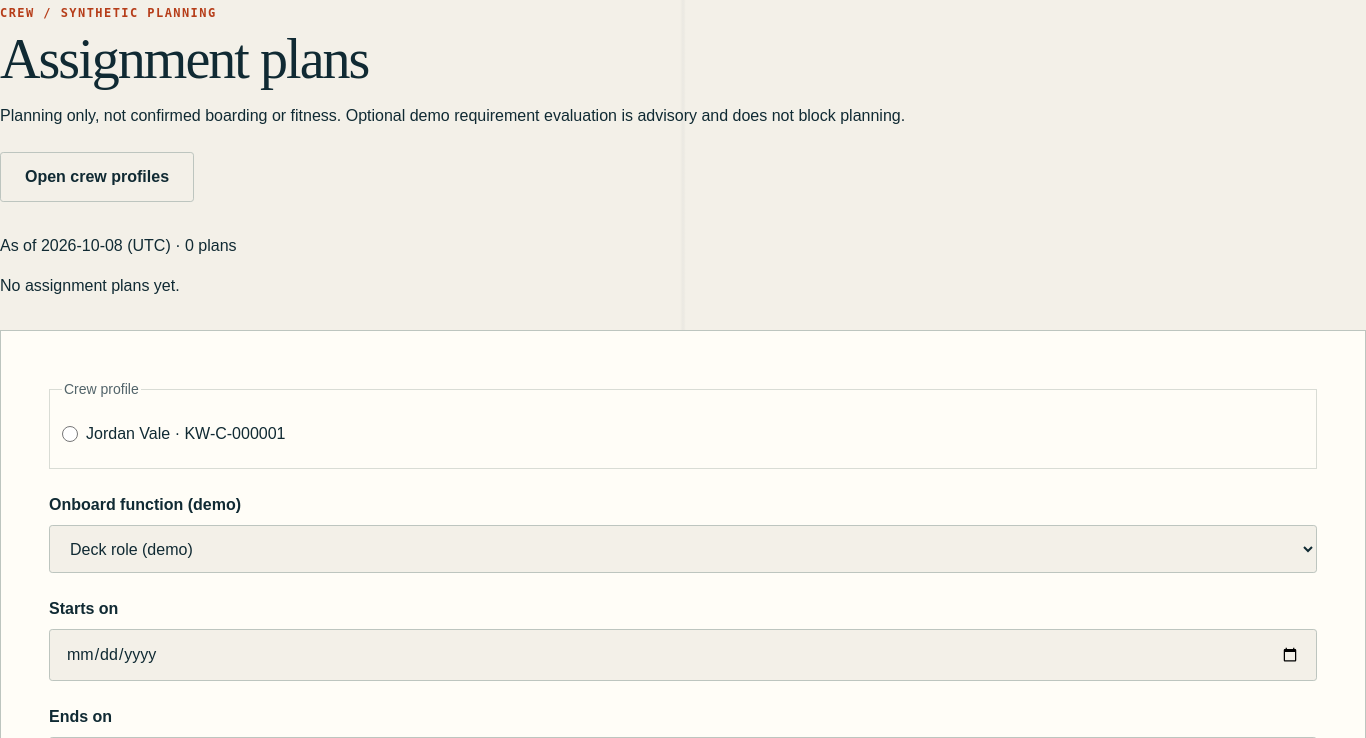
Test: Vessel assignment plans › preserves confirmed success if the subsequent history read fails and retries only that read
The width and height of the screenshot is (1366, 738).
(page scrolled)
Click the radio button labelled "Jordan Vale · KW-C-000001" at {"x": 70, "y": 434}, box 62,426 -> 78,442
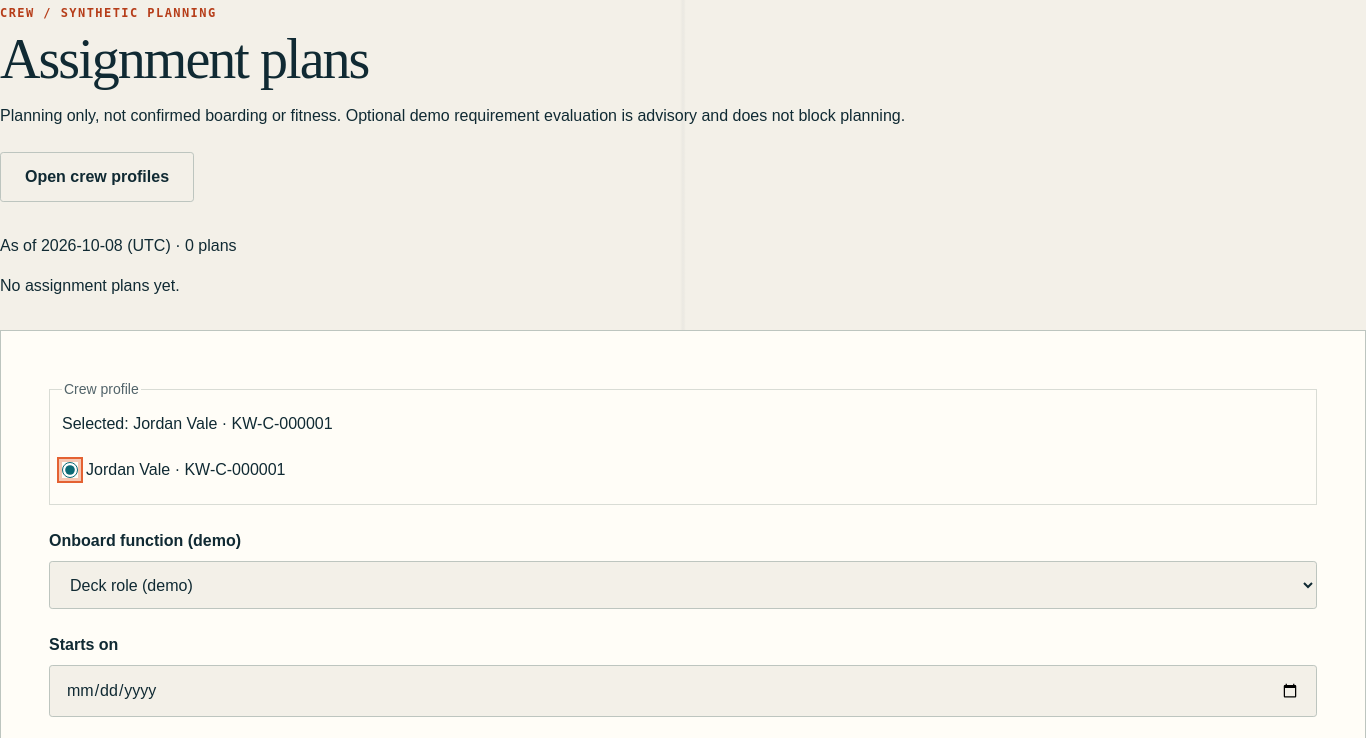
Type "2040-02-01" into the date field labelled "Starts on" at {"x": 683, "y": 692}, box 49,666 -> 1317,718
(page scrolled)
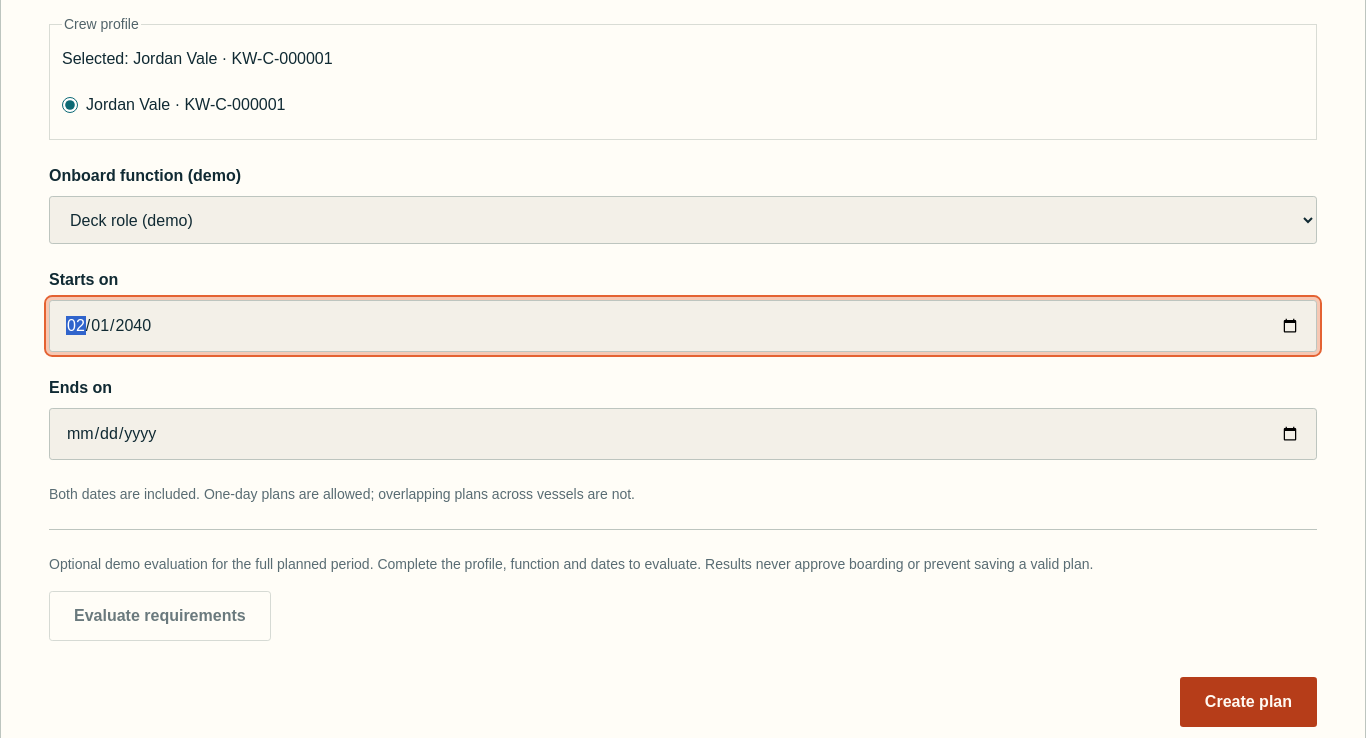
Type "2040-02-02" into the date field labelled "Ends on" at {"x": 683, "y": 434}, box 49,408 -> 1317,460
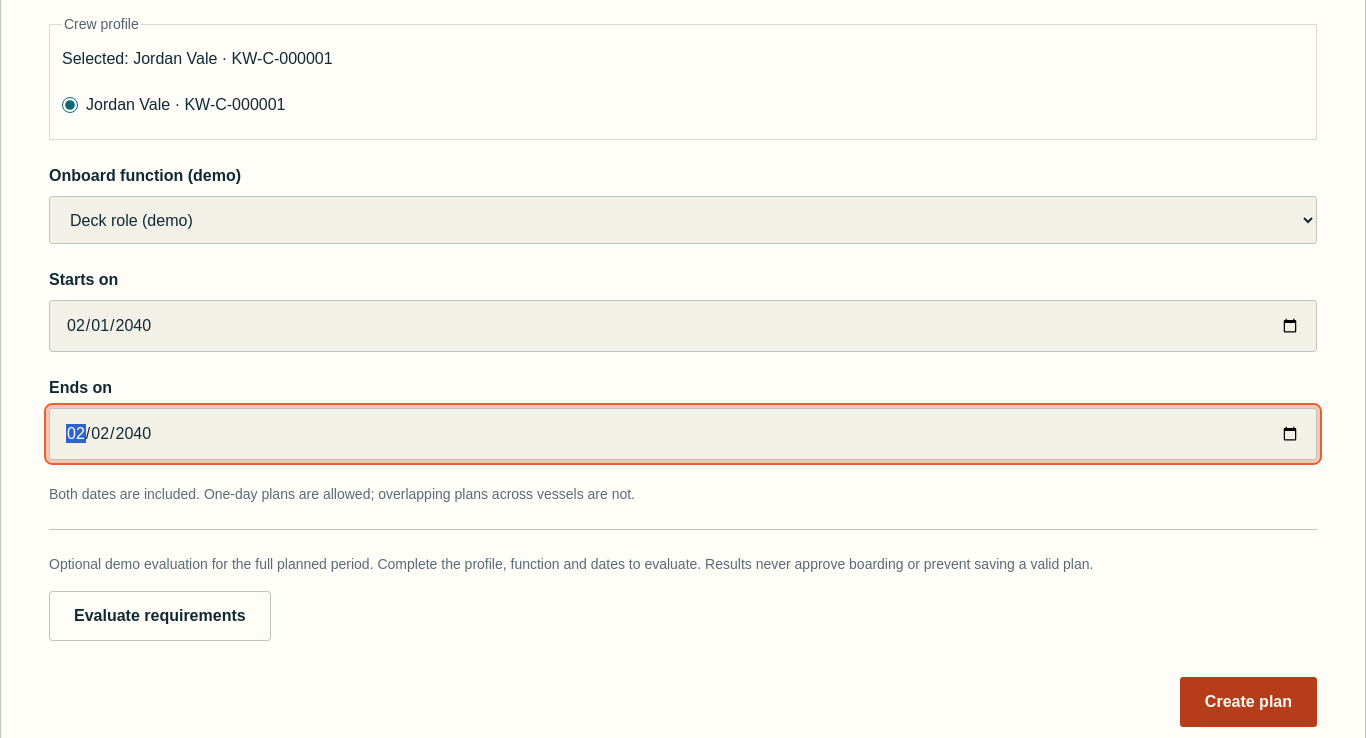
Click the button "Create plan" at {"x": 1248, "y": 702}, box 1180,678 -> 1317,728
(page scrolled)
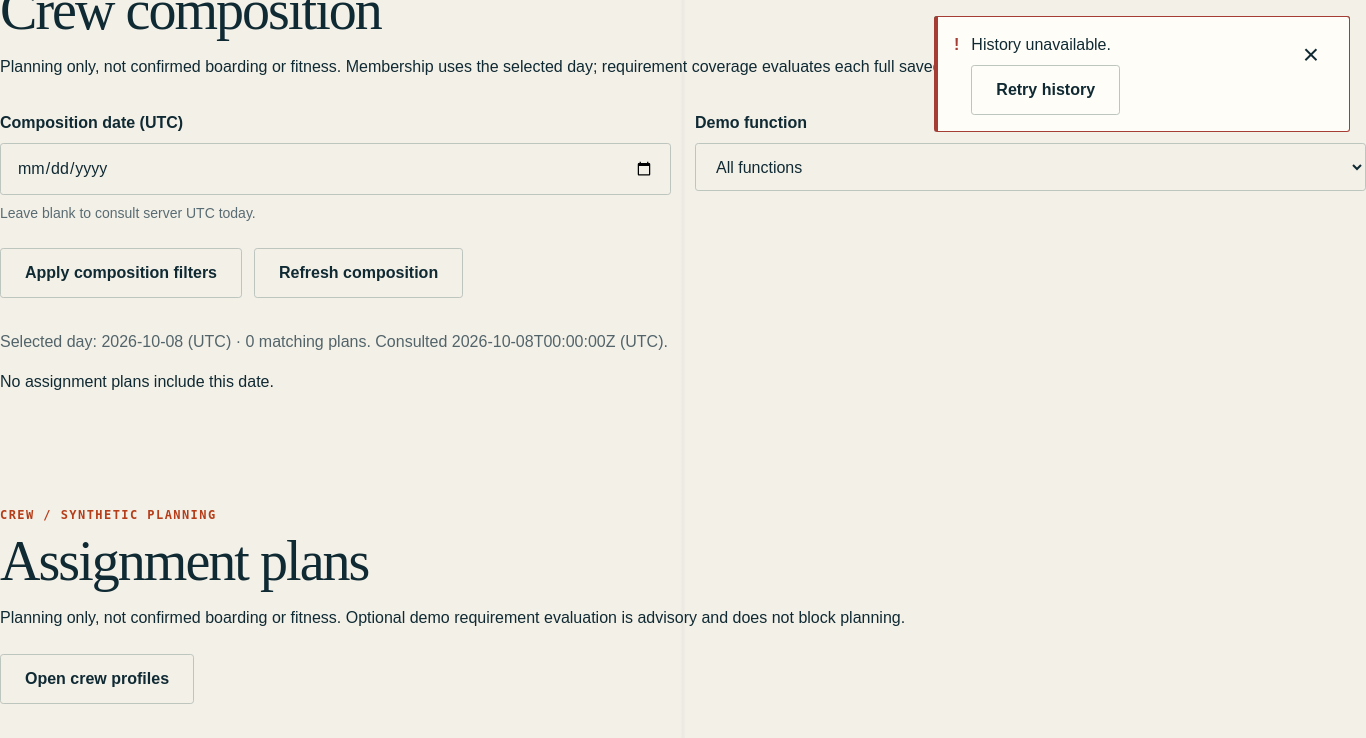
Result: the text "History unavailable." is shown at 971,36 -> 1111,53
Result: the text "Plan saved" is shown at 979,36 -> 1063,53
Click the button "Retry history" at {"x": 1046, "y": 90}, box 971,65 -> 1120,115
(page scrolled)
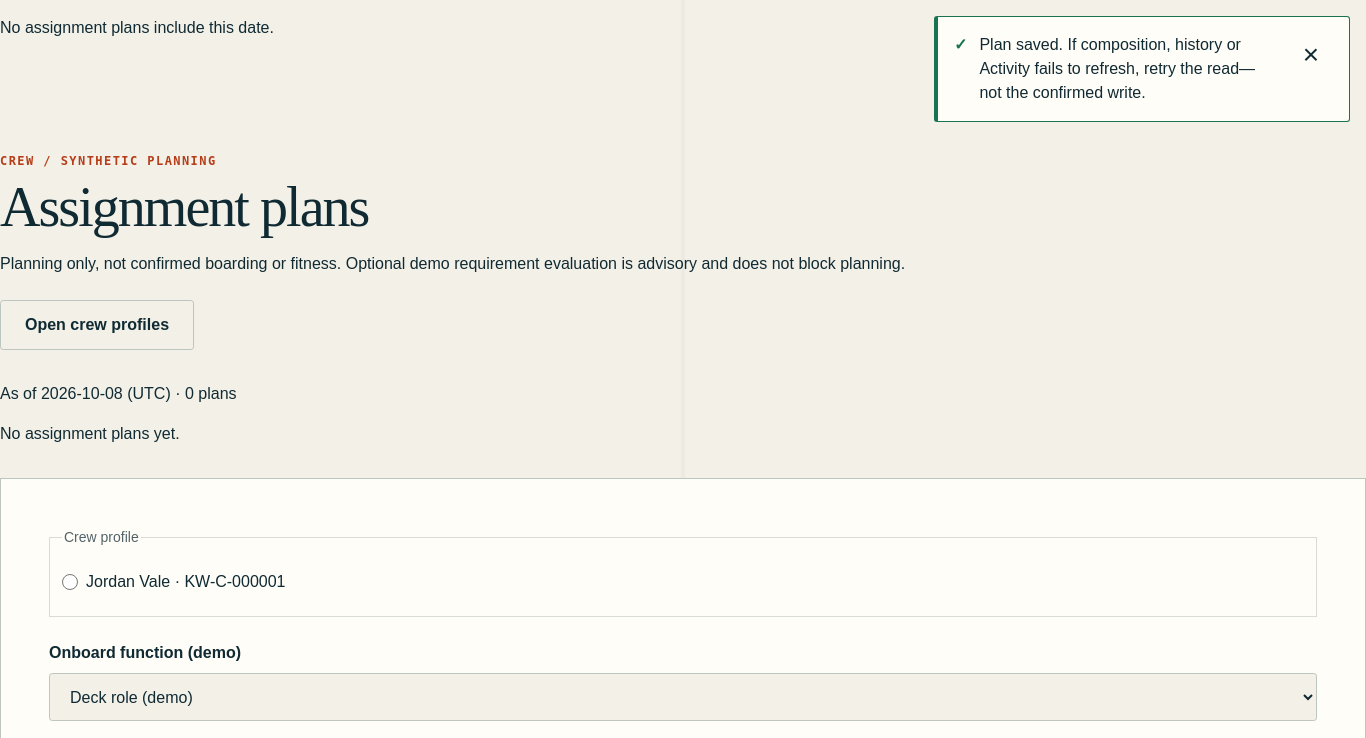
Result: the text "No assignment plans yet." is shown at 0,426 -> 180,442
